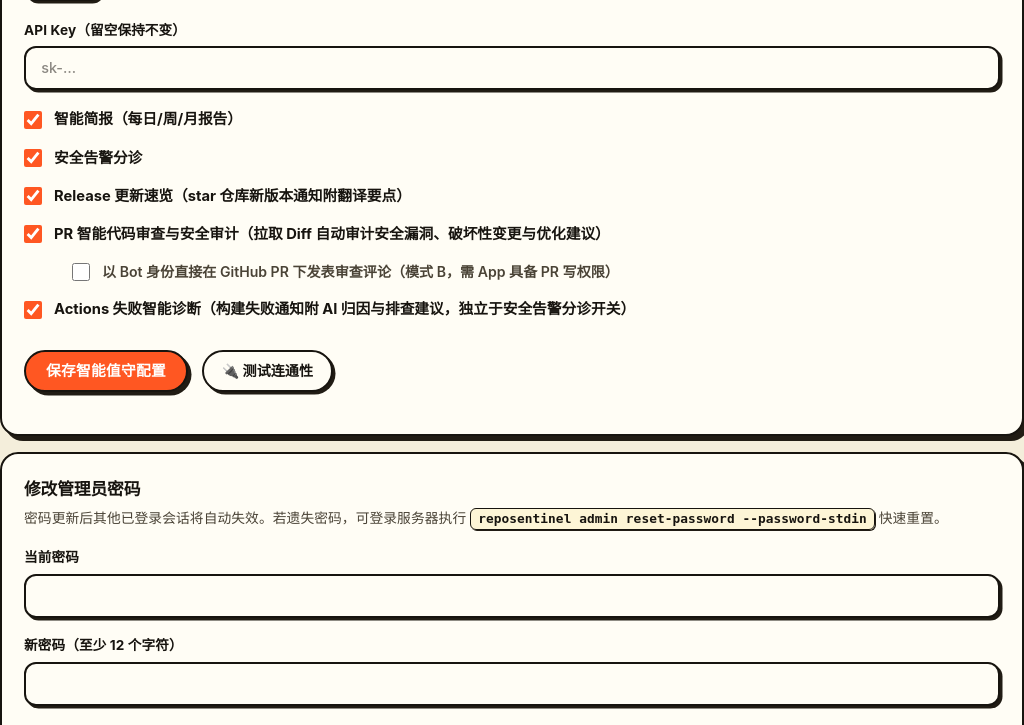
Test: 设置页 › 后端未设置标量字段（空串 / 0）时表单回退显示默认值
(page scrolled)
Note: 未修改直接保存时，不得把 0/空串提交给后端（会触发 400 校验失败）。
Click the button "保存智能值守配置": (106, 371) [24,350,188,392]
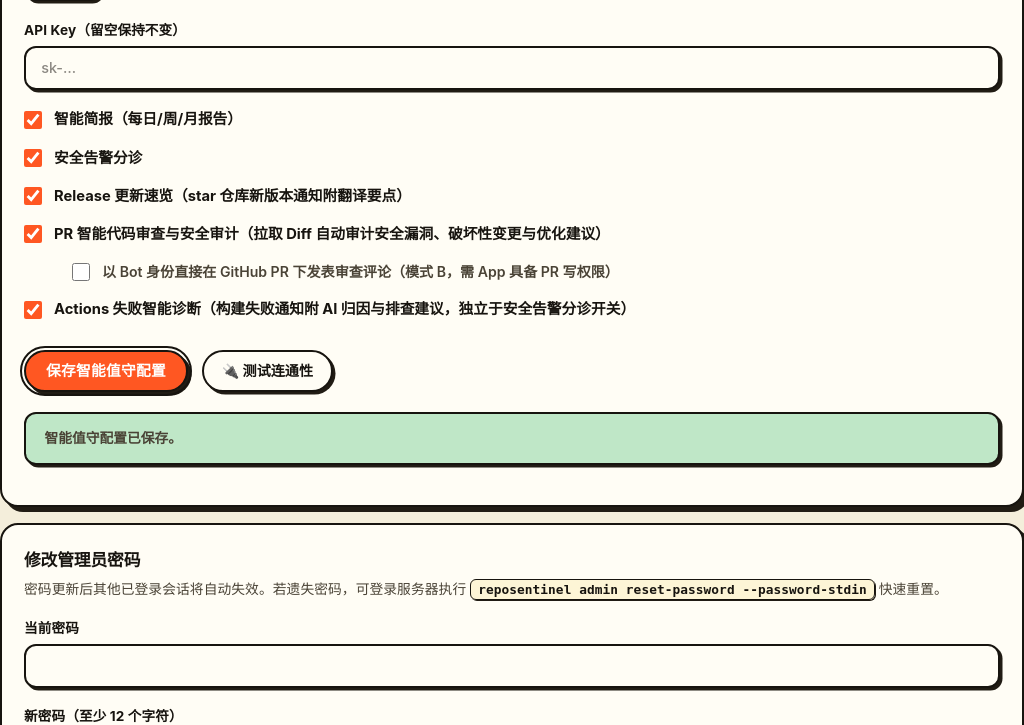
expect the text "智能值守配置已保存。" is shown: met, box [24,412,1000,465]
